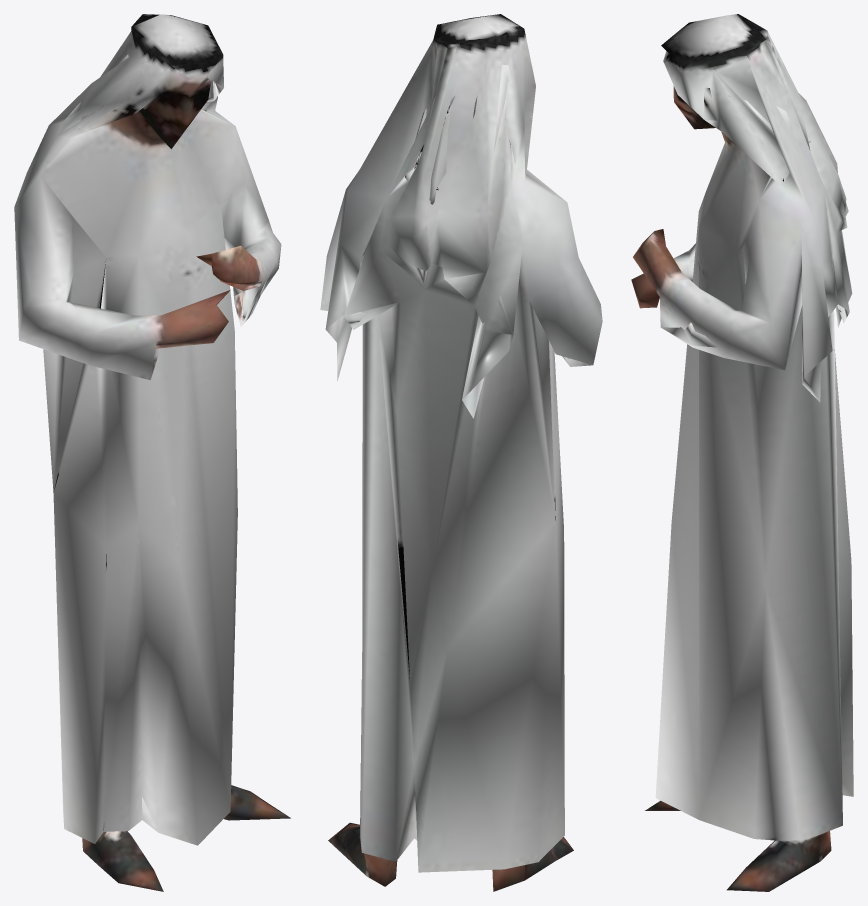
File: gcc-3.glb
3 renders of one model, left to right at view 1: azimuth 30°, elevation 25°; view 2: azimuth 150°, elevation 25°; view 3: azimuth 270°, elevation 25°, orthographic. The views are drawn at different scales.
Parts seen in each view (by area): view 1: Mesh_0; view 2: Mesh_0; view 3: Mesh_0.
Boxes of the visible parts, x1,y1,x2,y2 form: Mesh_0: [14, 14, 290, 891]; Mesh_0: [320, 14, 602, 891]; Mesh_0: [631, 14, 853, 891].
Size of the model in its own units: 0.6172 by 1.91 by 0.4701.
1 material, 1 textured.
